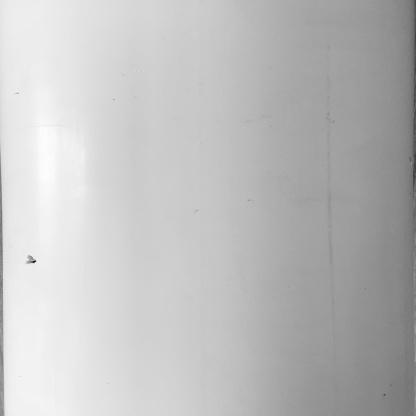kongdong: (22, 252, 45, 266)
